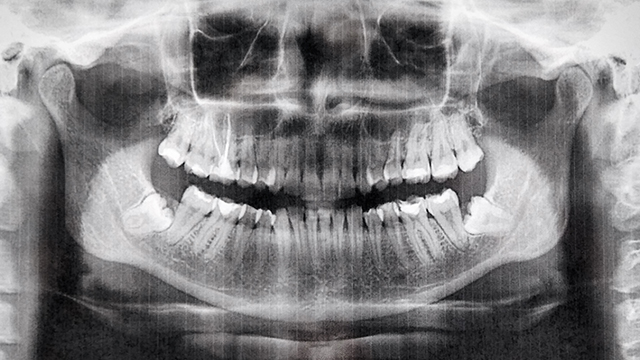canine: (356, 134, 375, 194), (272, 203, 291, 260), (346, 205, 366, 259), (269, 135, 284, 197)
incisor: (301, 133, 324, 202), (322, 131, 343, 205), (285, 135, 304, 199), (286, 203, 308, 254), (340, 138, 357, 197), (305, 205, 320, 269), (319, 208, 332, 264), (332, 207, 346, 257)
molar: (166, 177, 219, 250), (392, 192, 444, 265), (421, 186, 475, 253), (198, 197, 250, 258), (154, 107, 201, 170), (452, 102, 487, 178), (464, 190, 513, 242), (427, 118, 461, 187), (128, 191, 175, 239), (401, 125, 432, 192)
premolar: (374, 199, 409, 263), (236, 199, 265, 258), (362, 203, 387, 270), (254, 126, 277, 191), (232, 135, 258, 192), (382, 129, 405, 190), (365, 135, 388, 194), (256, 205, 277, 250)
